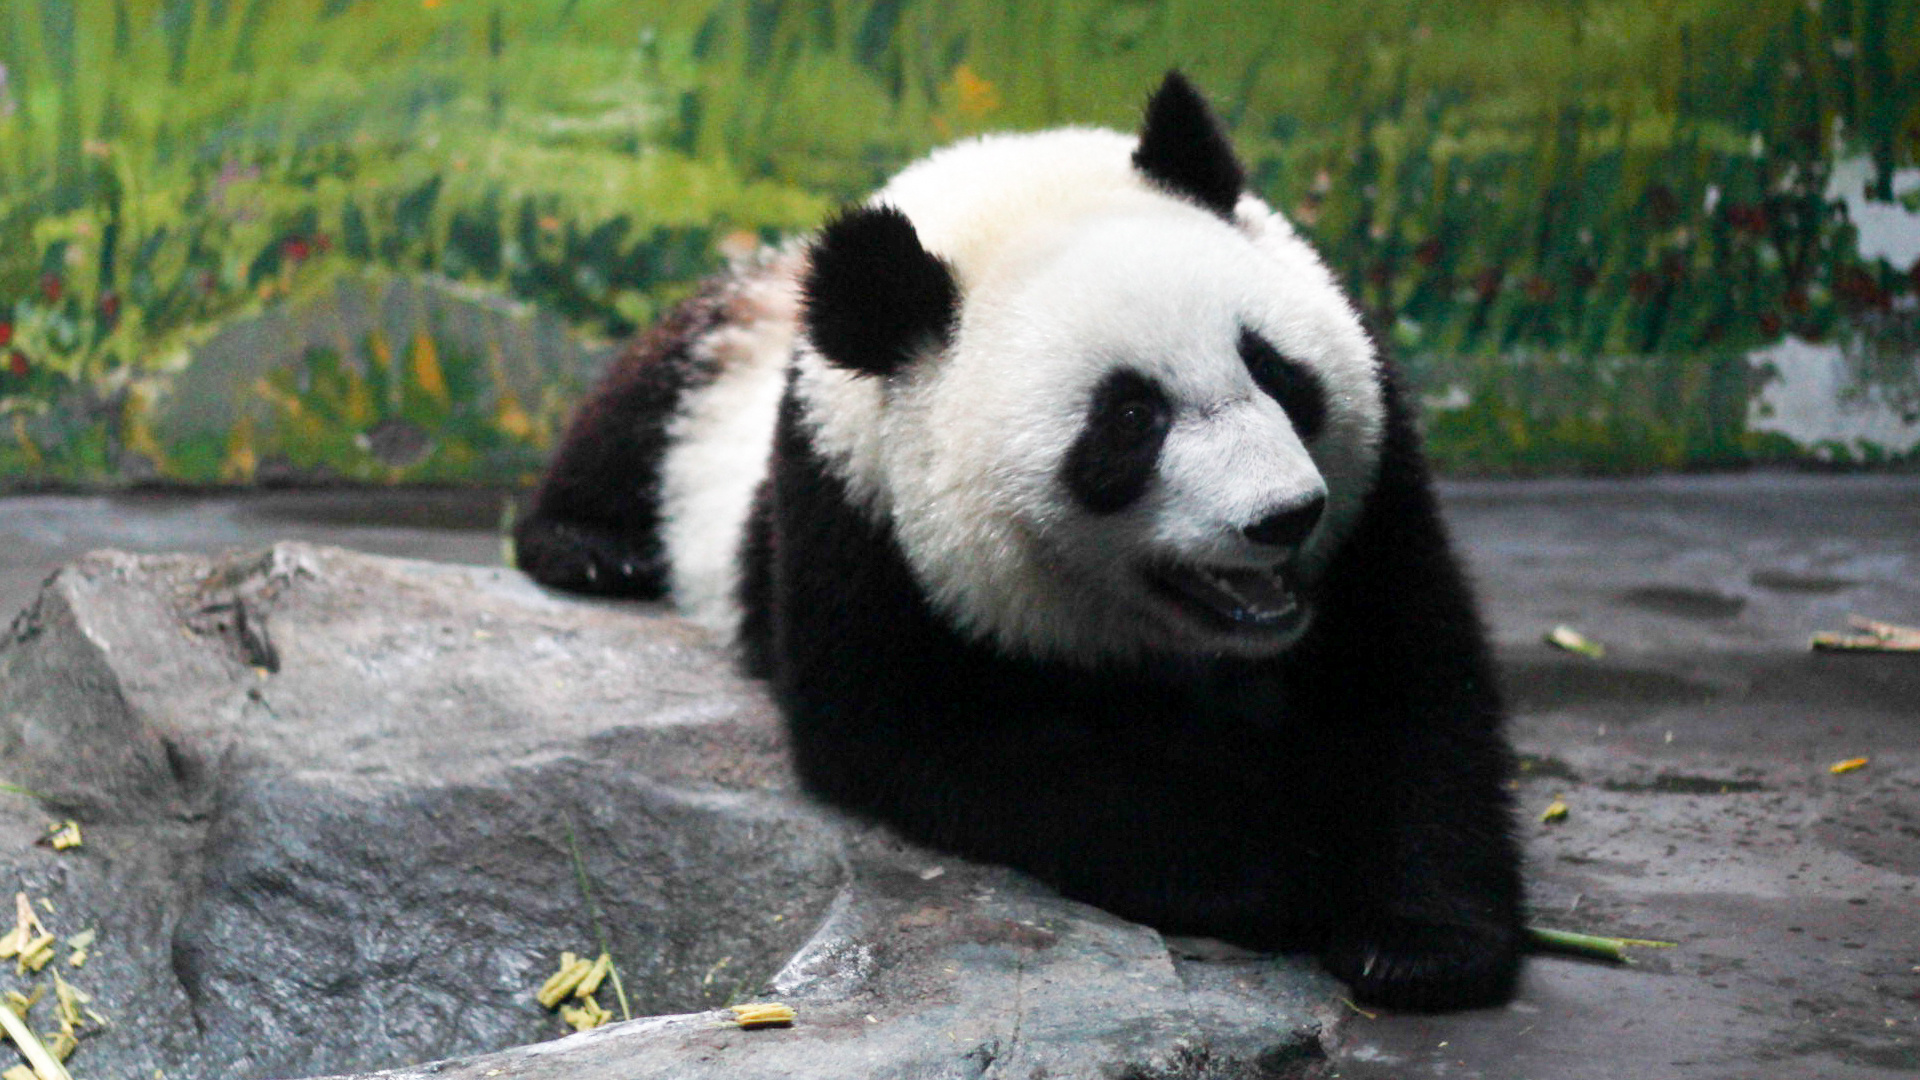panda: (472, 117, 1606, 996)
